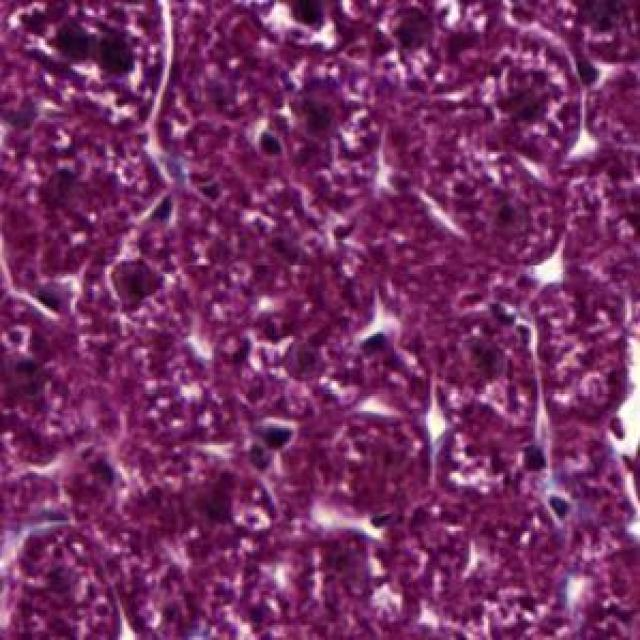inflammation: (11, 0, 143, 101), (99, 250, 169, 317), (252, 0, 342, 51), (505, 435, 559, 488), (261, 417, 306, 456)
